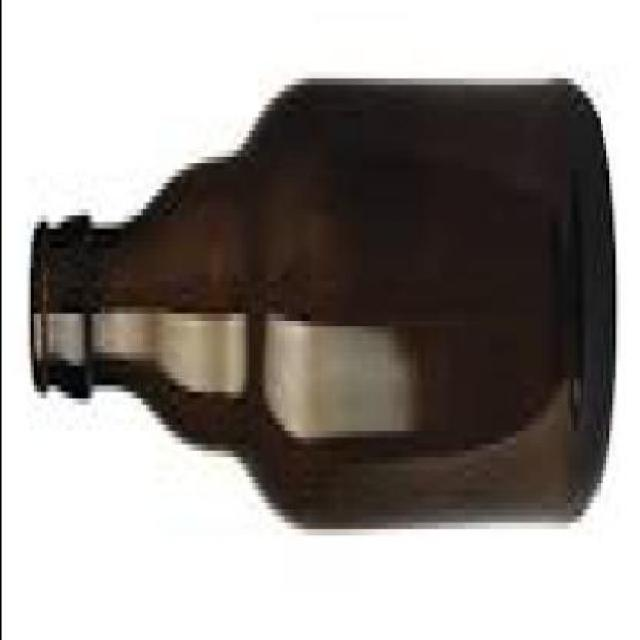GLASS: (26, 84, 611, 536)
